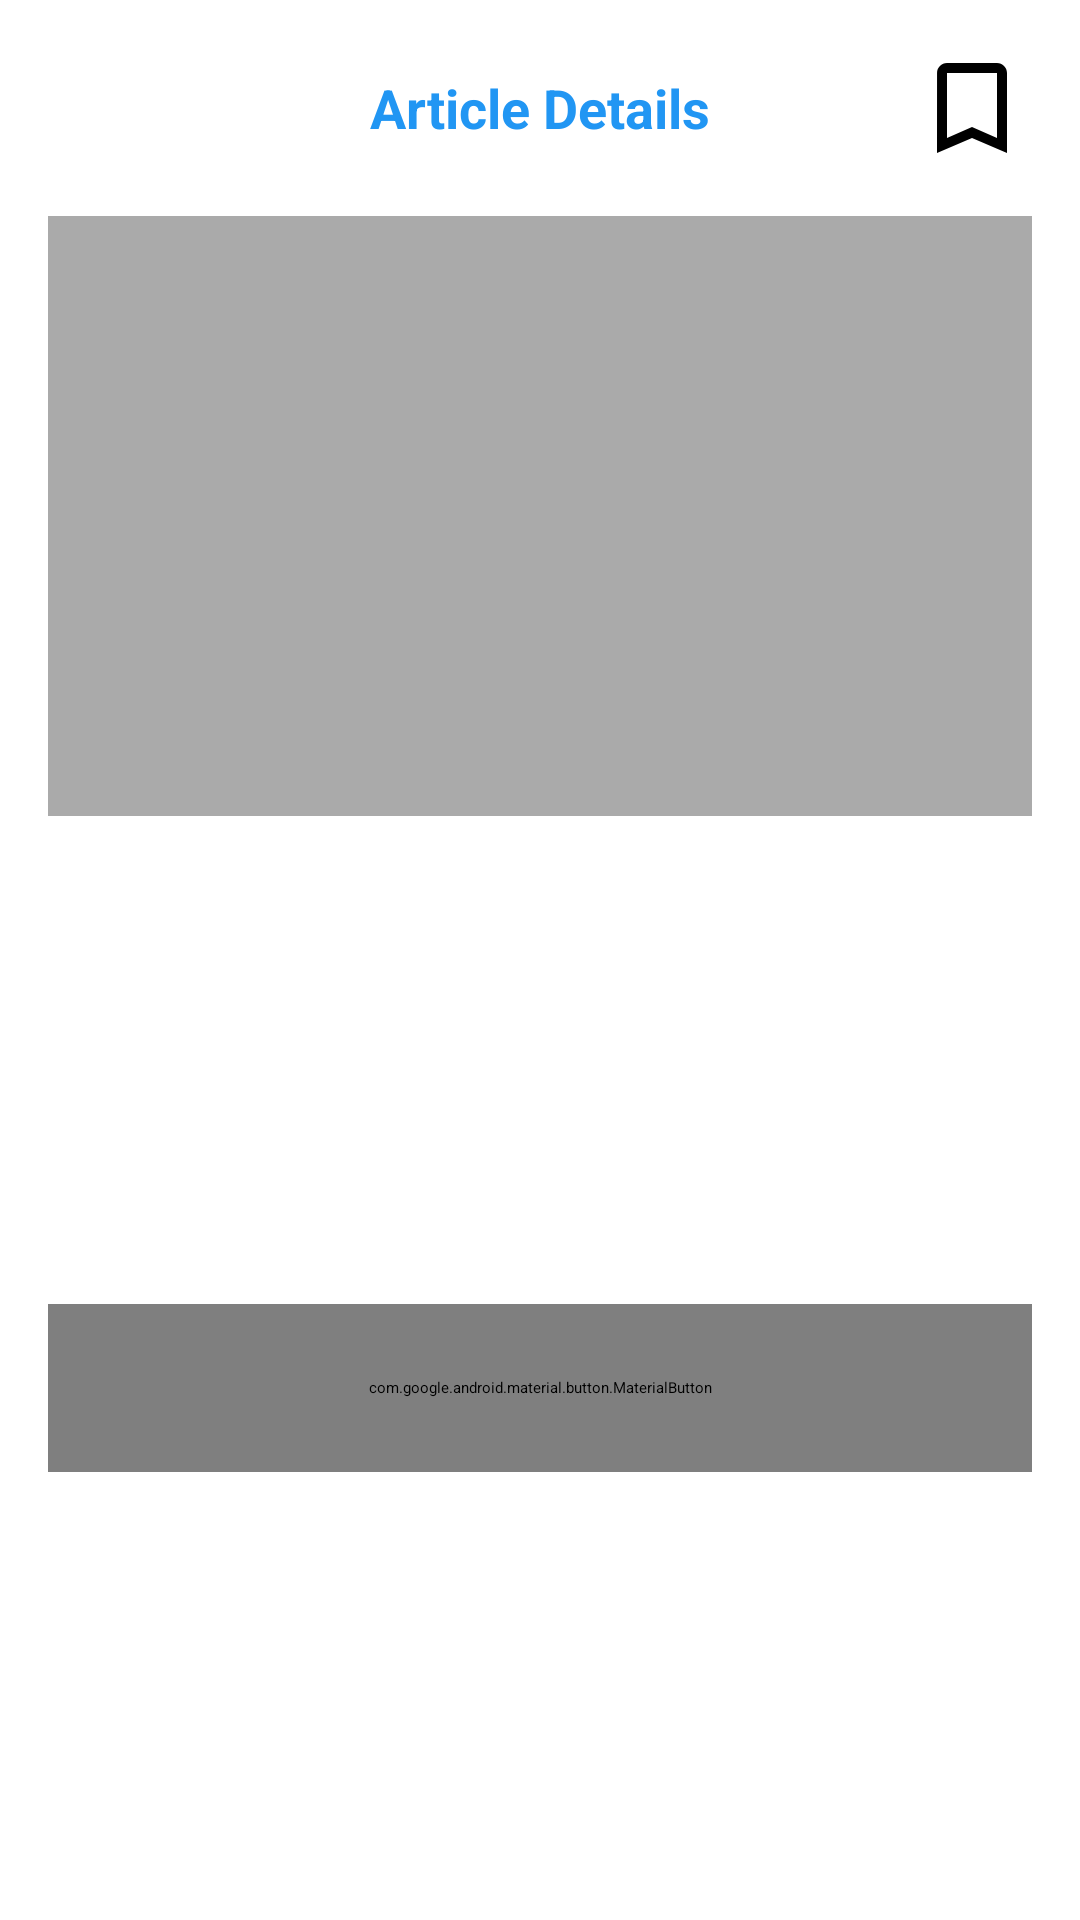

Named icons in this screenshot (1080*1920) and their centers, (x,y):
Bookmark: (972,108)
